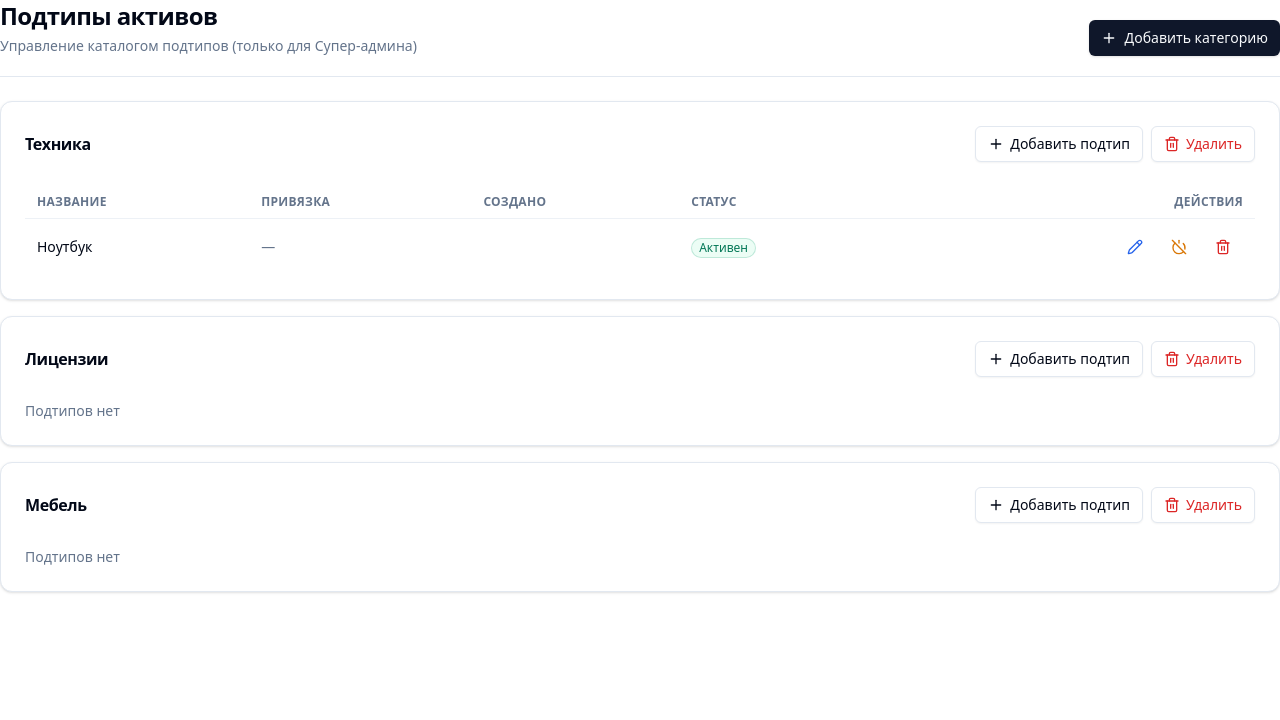
Test: SubtypeManagementPage › shows the referenced-by-assets error when subtype delete is blocked
Click the button named "Удалить" at (1223, 247), box [1203,227,1243,267]
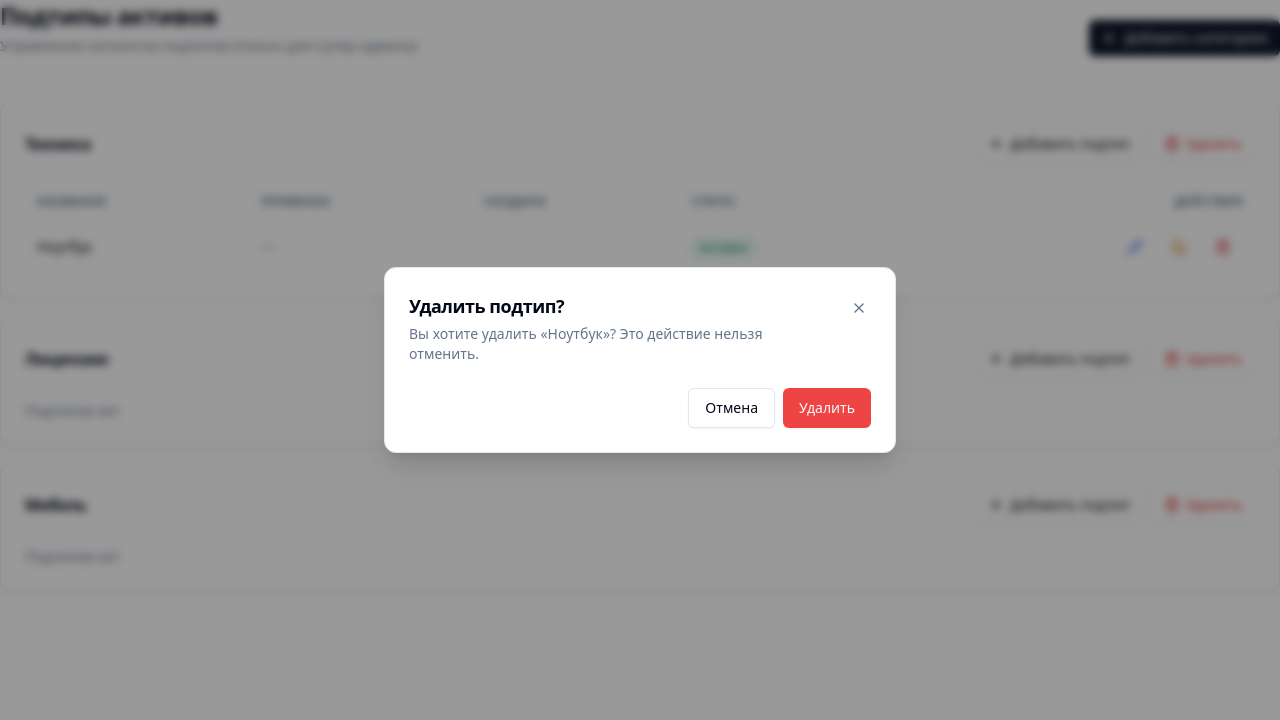
Click the button "Удалить" at (827, 408), box [783,388,871,428]
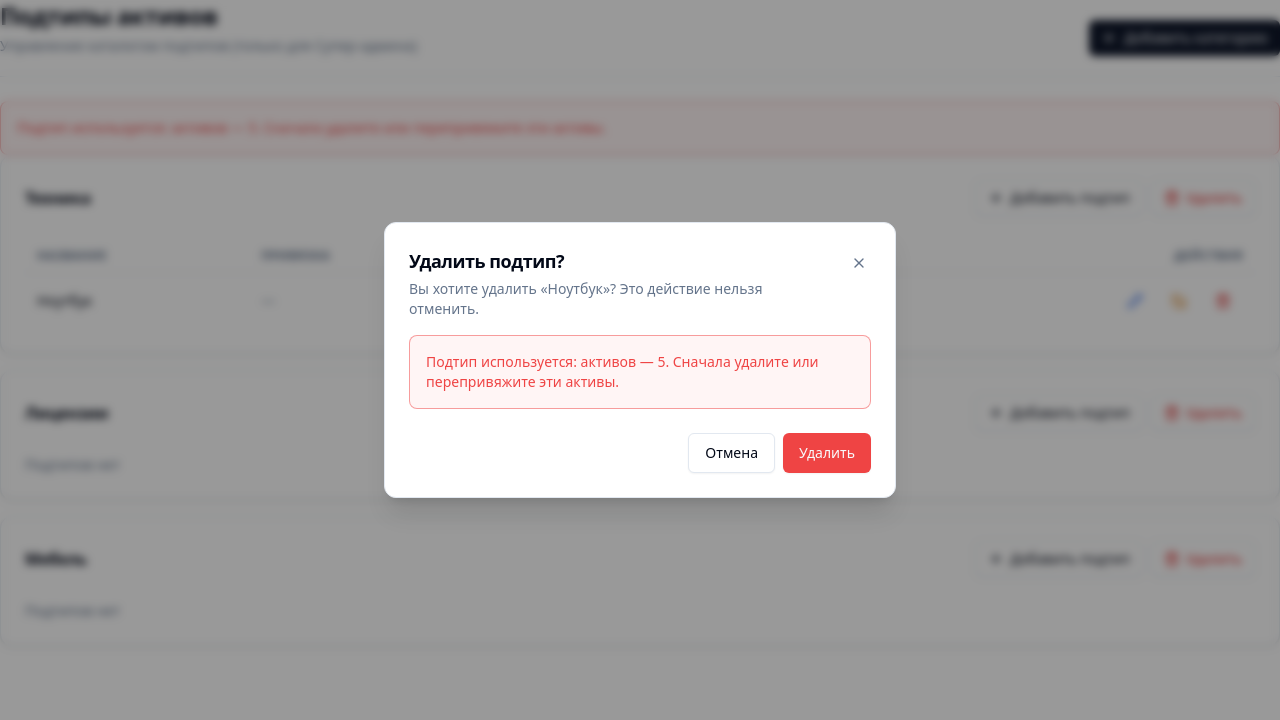
Expected: the heading "Удалить подтип?" is shown, [409,249,564,273]
Expected: the text "5" is shown, [17,118,606,137]
